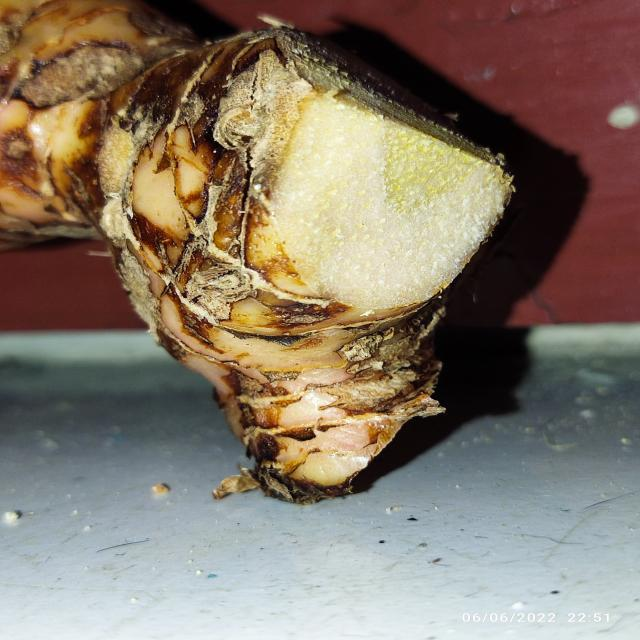ginger: (2, 5, 508, 467)
